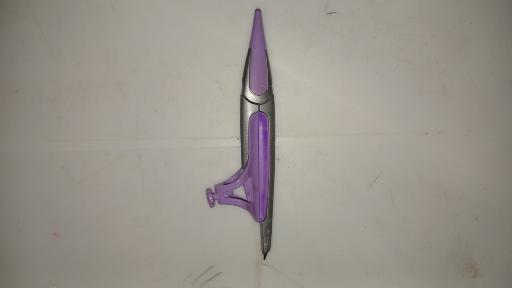Compass: (206, 9, 278, 262)
